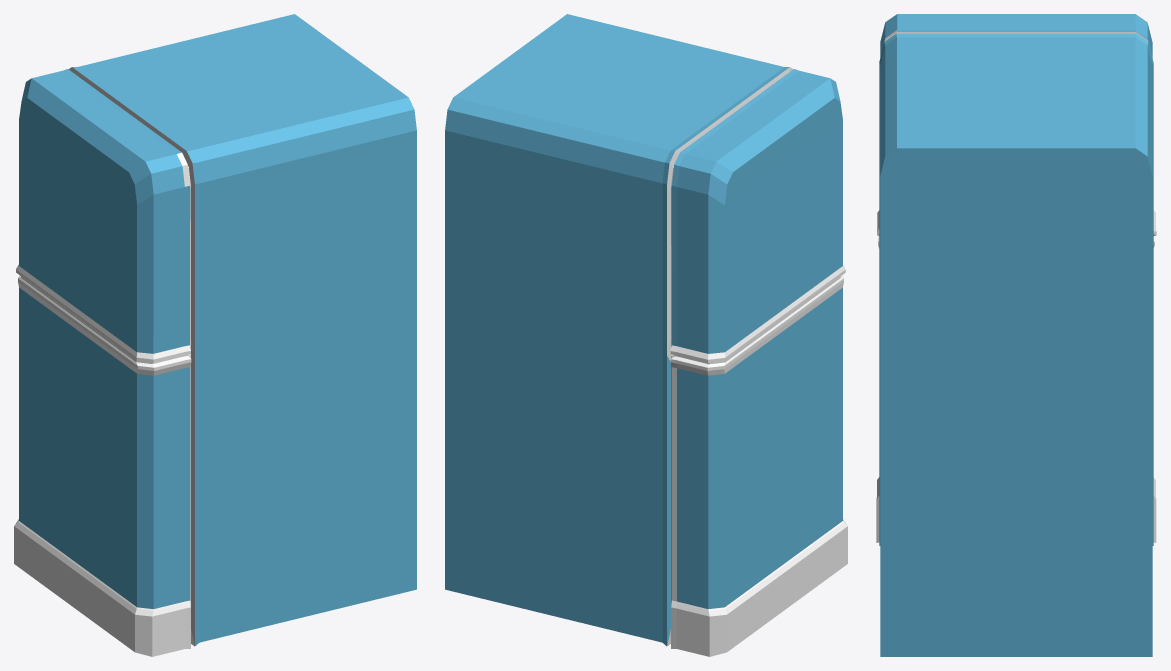
3 renders of one model, left to right at view 1: azimuth 30°, elevation 25°; view 2: azimuth 150°, elevation 25°; view 3: azimuth 270°, elevation 25°, orthographic. The views are drawn at different scales.
Visible parts, largest first — view 1: Cube.049; view 2: Cube.049; view 3: Cube.049.
Part boxes in pixels (x1,y1,x2,y2): Cube.049: [14, 14, 416, 656]; Cube.049: [445, 14, 847, 656]; Cube.049: [876, 14, 1156, 656].
Bounding box in the file's own units: 1328 × 2241 × 1110.
